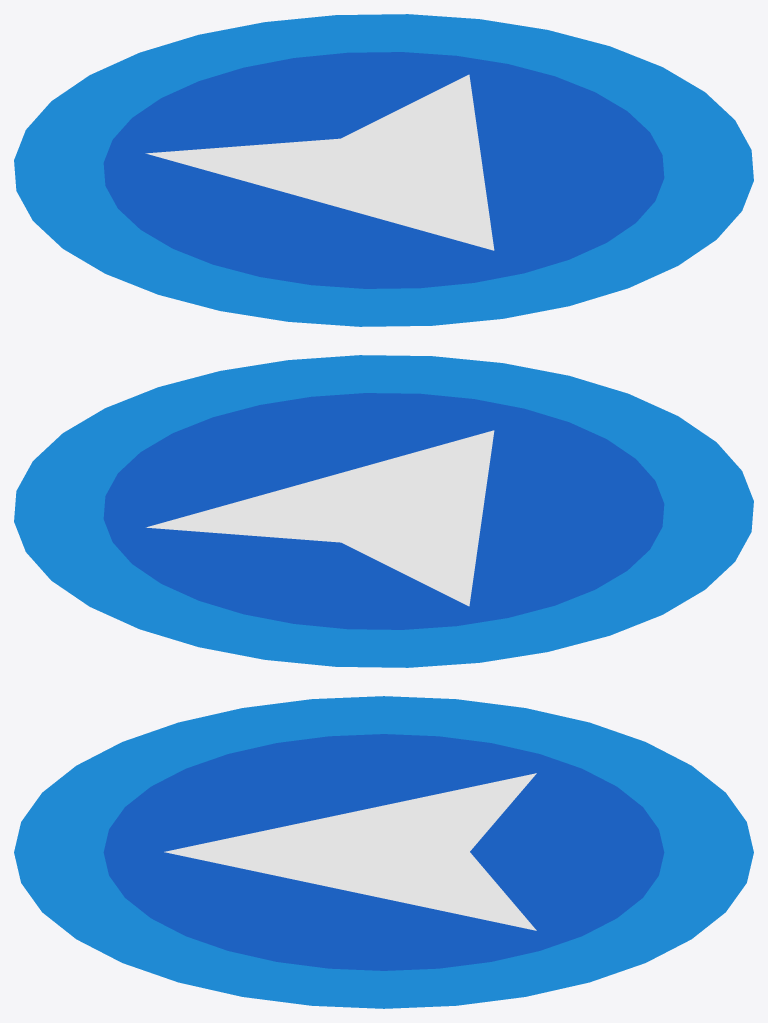
File: circlePlane2.gltf
The picture shows the model from 3 angles, top to bottom: view 1: azimuth 30°, elevation 25°; view 2: azimuth 150°, elevation 25°; view 3: azimuth 270°, elevation 25°; orthographic projection.
Parts seen in each view (by area): view 1: Disc-Material.6, Tube-Material.1, Polygon-Material.4; view 2: Disc-Material.6, Tube-Material.1, Polygon-Material.4; view 3: Disc-Material.6, Tube-Material.1, Polygon-Material.4.
Part boxes in pixels (left/top/right/bottom): Disc-Material.6: left=103, top=52, right=664, bottom=288; Tube-Material.1: left=14, top=14, right=753, bottom=326; Polygon-Material.4: left=145, top=74, right=494, bottom=250; Disc-Material.6: left=103, top=393, right=664, bottom=629; Tube-Material.1: left=14, top=355, right=753, bottom=667; Polygon-Material.4: left=146, top=430, right=494, bottom=606; Disc-Material.6: left=103, top=734, right=664, bottom=970; Tube-Material.1: left=14, top=696, right=753, bottom=1008; Polygon-Material.4: left=164, top=773, right=536, bottom=930.
Size of the model in its own units: 1319 by 3.48 by 1319.
